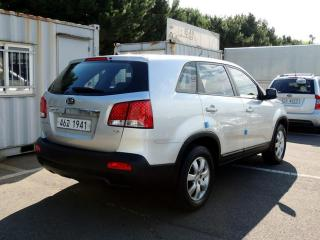1: (83, 121, 88, 130), (72, 119, 76, 128)
4: (80, 121, 84, 130), (59, 118, 63, 126)
6: (63, 118, 66, 128)
9: (76, 119, 80, 129)
plate: (54, 115, 94, 134)
고: (66, 119, 71, 127)
